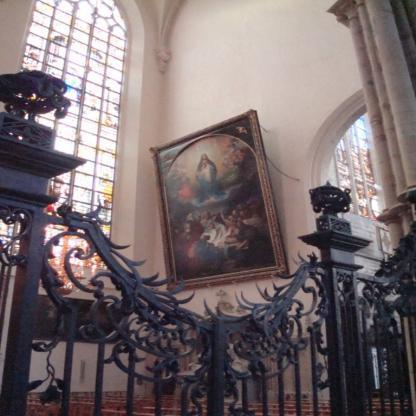Picture-frame: (152, 108, 290, 288)
